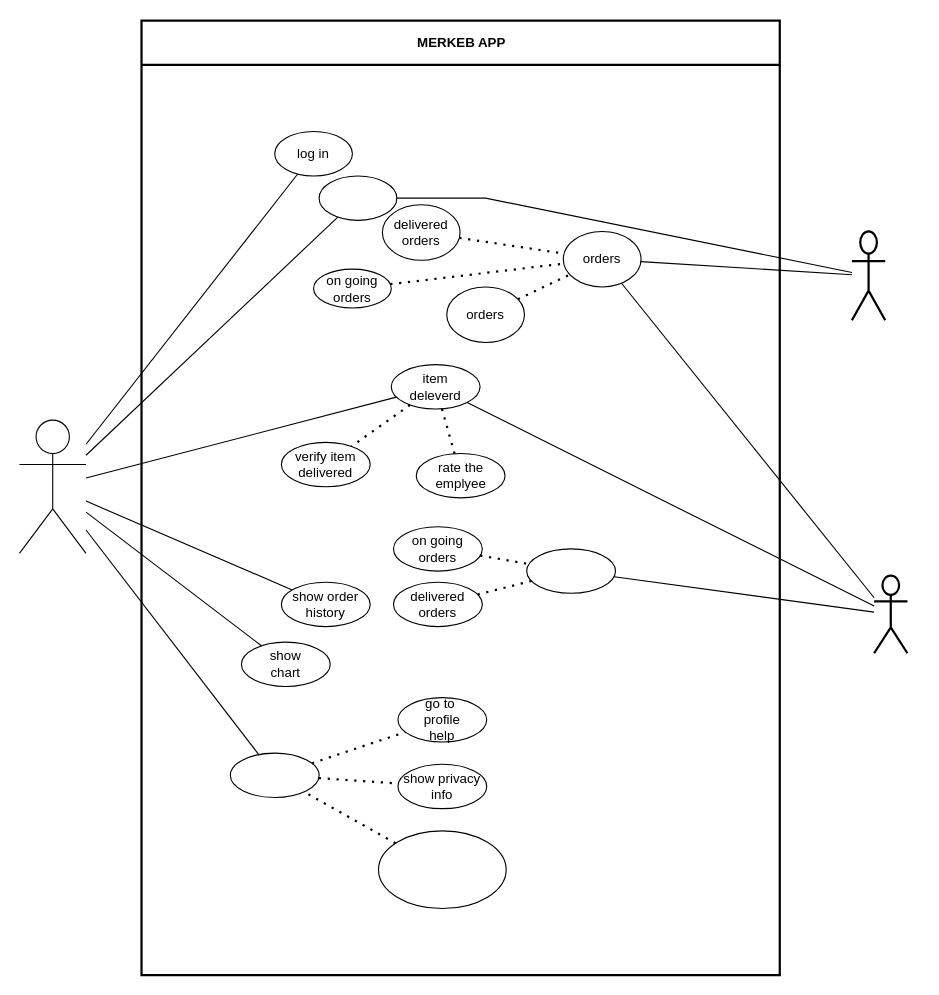
Image size: 939x995. Some labels were removed from this diagram. Each missing label, with the centre of its shape:
change phone number and location: the point at 441,869
company employee: the point at 890,614
company manager: the point at 868,275
customer: the point at 52,486
order item: the point at 357,197
setup profile: the point at 274,775
show my orders: the point at 570,570
